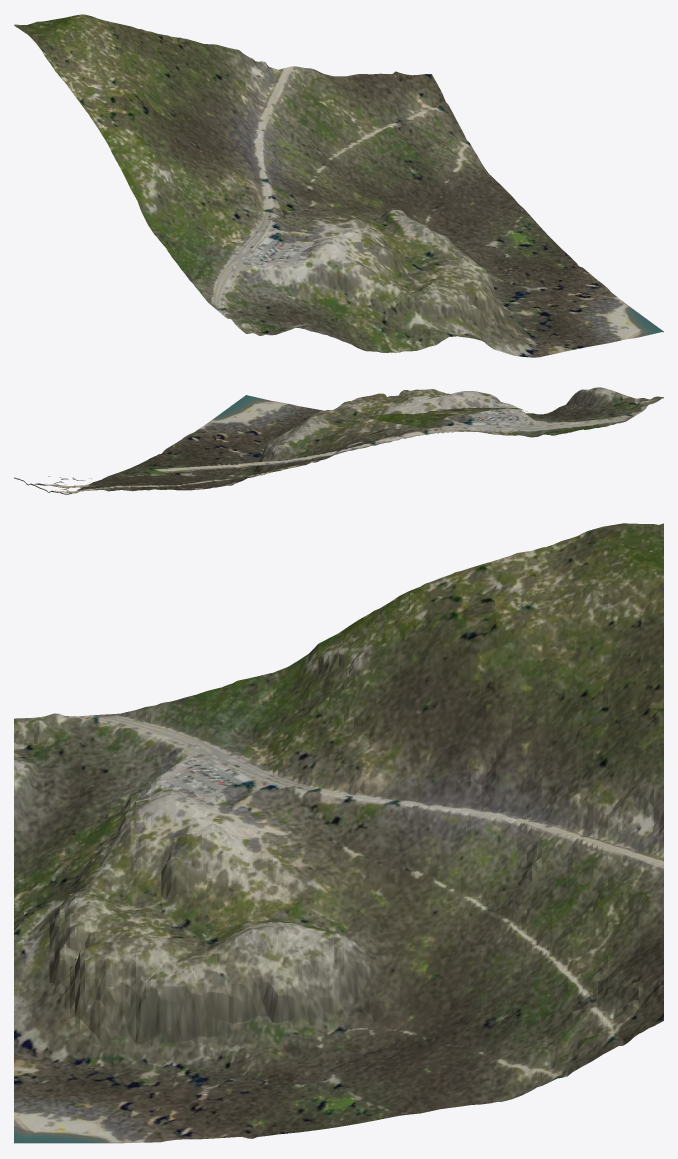
3 renders of one model, top to bottom at view 1: azimuth 30°, elevation 25°; view 2: azimuth 150°, elevation 25°; view 3: azimuth 270°, elevation 25°, orthographic. The views are drawn at different scales.
Bounding box in the file's own units: 500 × 274 × 481.
Materials: 1 (1 with a texture image).
